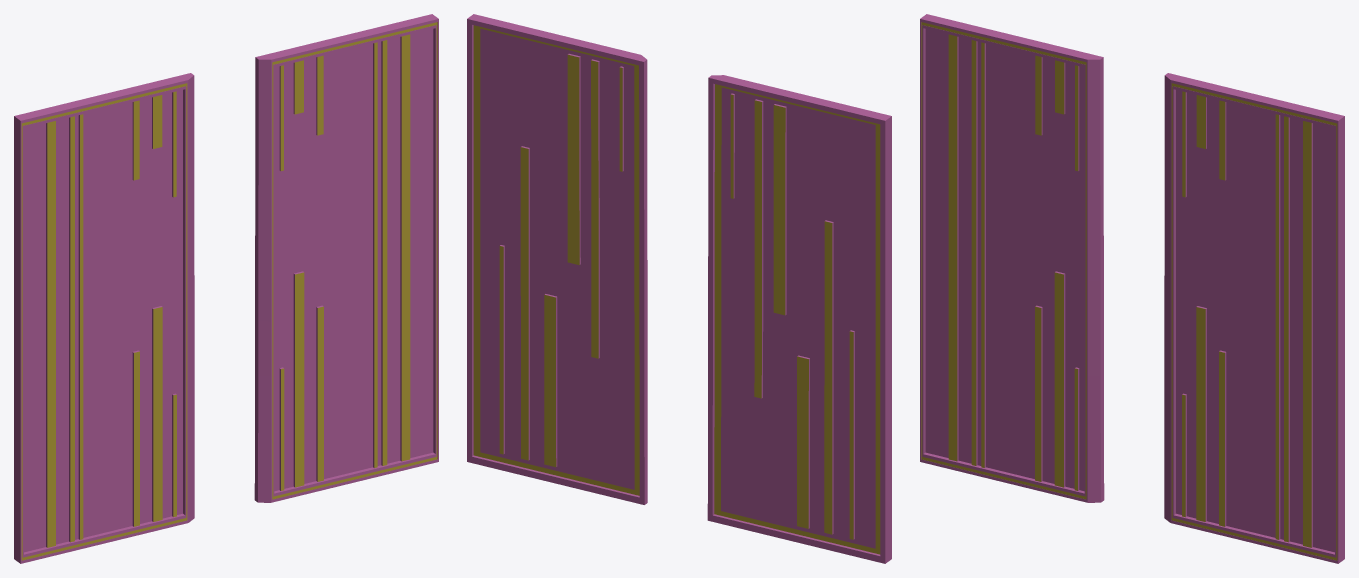
File: Elevator Door.fbx
3 views of the same model, side by side, from view 1: azimuth 30°, elevation 25°; view 2: azimuth 150°, elevation 25°; view 3: azimuth 330°, elevation 25° (orthographic).
Visible parts, largest first — view 1: Elevator Door right, Elevator Door left; view 2: Elevator Door left, Elevator Door right; view 3: Elevator Door left, Elevator Door right.
Part boxes in pixels (x1,y1,x2,y2): Elevator Door right: (254, 14, 438, 502); Elevator Door left: (14, 73, 194, 563); Elevator Door left: (707, 75, 891, 563); Elevator Door right: (467, 14, 647, 504); Elevator Door left: (920, 14, 1104, 502); Elevator Door right: (1164, 73, 1344, 563).
Bounding box in the file's own units: 247 × 250 × 6.78.
